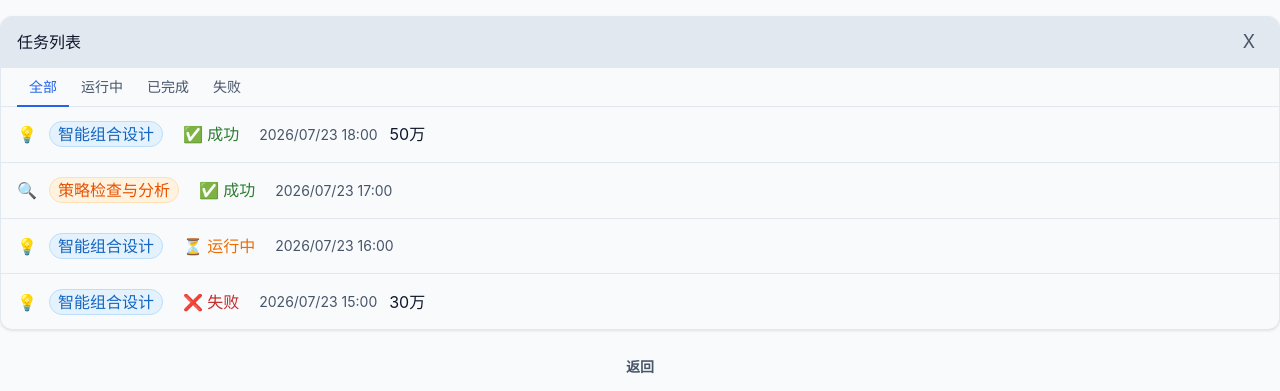
DesignHistory.vue › renders filter tabs and filters items on click
The width and height of the screenshot is (1280, 391).
Expected: the button with class "filter-tab" reads "全部", [17,68,69,107]
Expected: the button with class "filter-tab" reads "已完成", [135,68,201,107]
Note: Click "运行中" filter
Click the button with class "filter-tab" showing "运行中" at (102, 88), box [69,68,135,107]
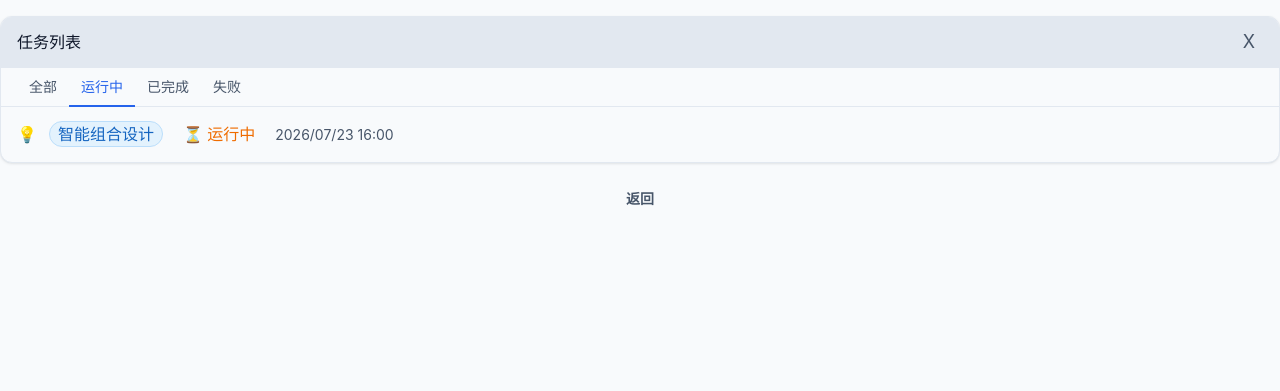
Result: the number of elements with class "history-item" is 1 at [17,121,394,147]
Note: Click "已完成"
Click the button with class "filter-tab" showing "已完成" at (168, 88), box [135,68,201,107]
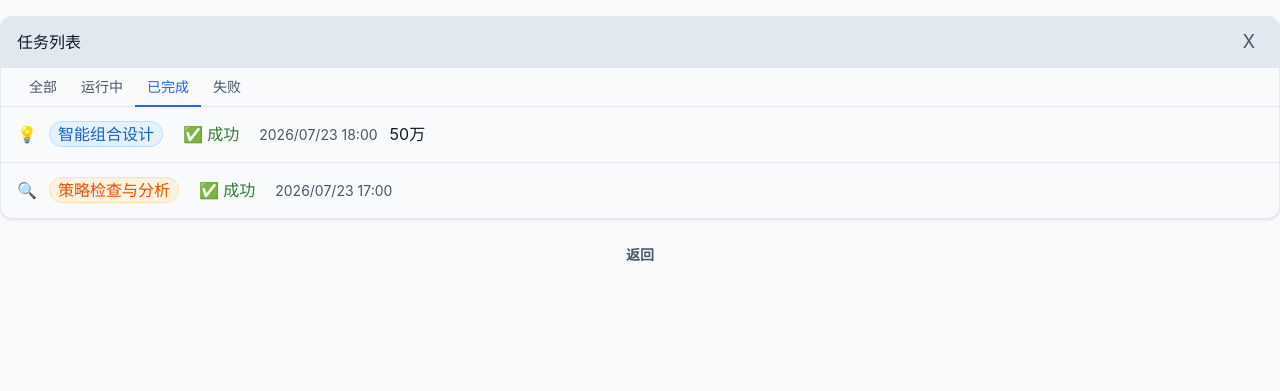
Result: the number of elements with class "history-item" is 2 at [1,107,1279,163]; [17,177,392,203]
Note: Click "失败"
Click the button with class "filter-tab" showing "失败" at (227, 88), box [201,68,253,107]
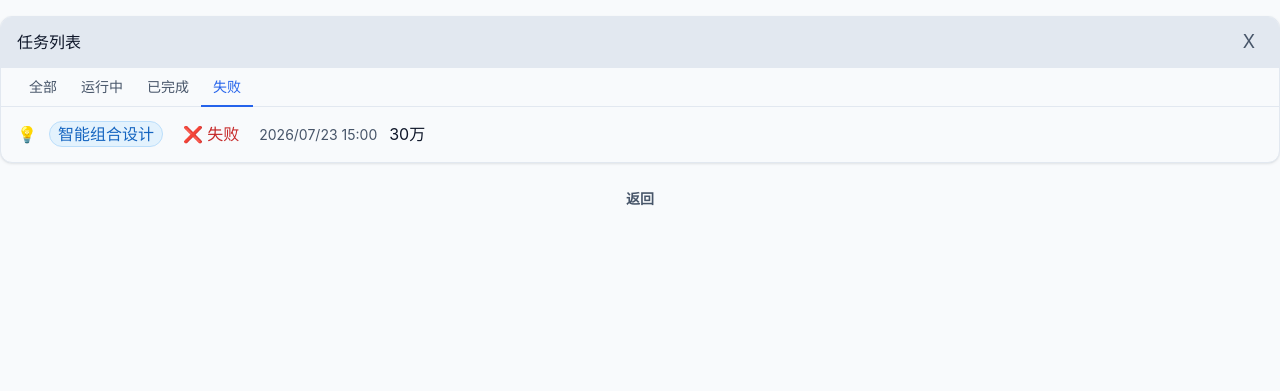
Result: the number of elements with class "history-item" is 1 at [17,121,425,147]
Note: Click "全部" again
Click the button with class "filter-tab" showing "全部" at (43, 88), box [17,68,69,107]
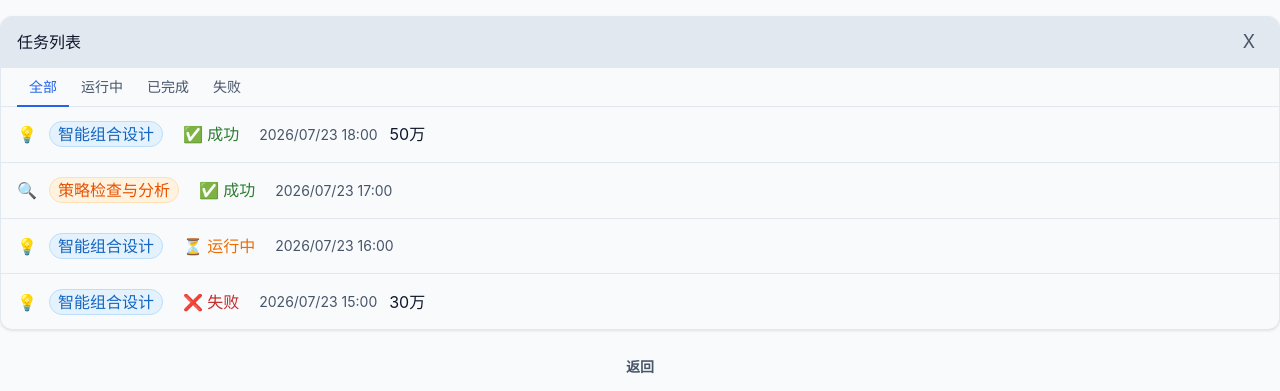
Result: the number of elements with class "history-item" is 4 at [1,107,1279,163]; [1,163,1279,219]; [1,219,1279,274]; [17,289,425,315]
